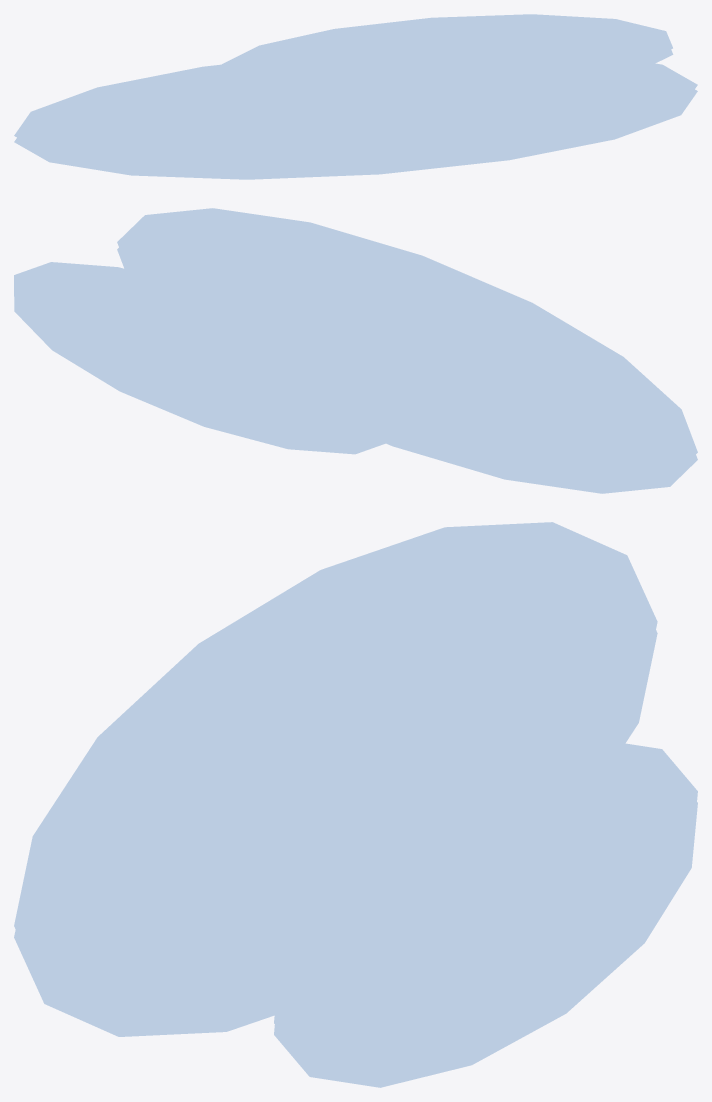
The model's file is bumblebee_wing_left.obj.
The picture shows the model from 3 angles, top to bottom: view 1: azimuth 30°, elevation 25°; view 2: azimuth 150°, elevation 25°; view 3: azimuth 270°, elevation 25°; orthographic projection. The views are drawn at different scales.
Parts seen in each view (by area): view 1: bumblebee_wing_left; view 2: bumblebee_wing_left; view 3: bumblebee_wing_left.
Part boxes in pixels (bbox=[...]): bumblebee_wing_left: bbox=[14, 14, 697, 179]; bumblebee_wing_left: bbox=[14, 208, 697, 493]; bumblebee_wing_left: bbox=[14, 522, 697, 1087].
Size of the model in its own units: 0.1509 by 0.0035 by 0.0809.
